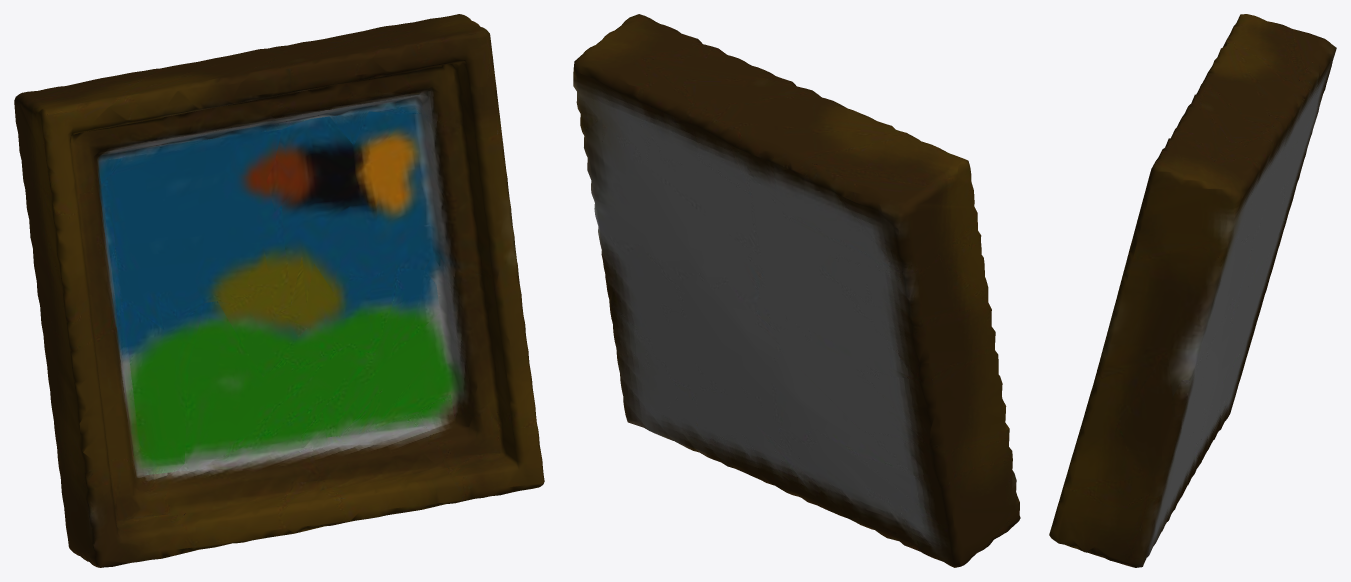
3 renders of one model, left to right at view 1: azimuth 30°, elevation 25°; view 2: azimuth 150°, elevation 25°; view 3: azimuth 270°, elevation 25°, orthographic. The views are drawn at different scales.
Parts seen in each view (by area): view 1: Layer_1; view 2: Layer_1; view 3: Layer_1.
Boxes of the visible parts, x1,y1,x2,y2 form: Layer_1: [14, 14, 544, 567]; Layer_1: [573, 14, 1020, 567]; Layer_1: [1049, 14, 1336, 567].
Size of the model in its own units: 0.5029 by 0.5261 by 0.3312.
Materials: 1 (1 with a texture image).
